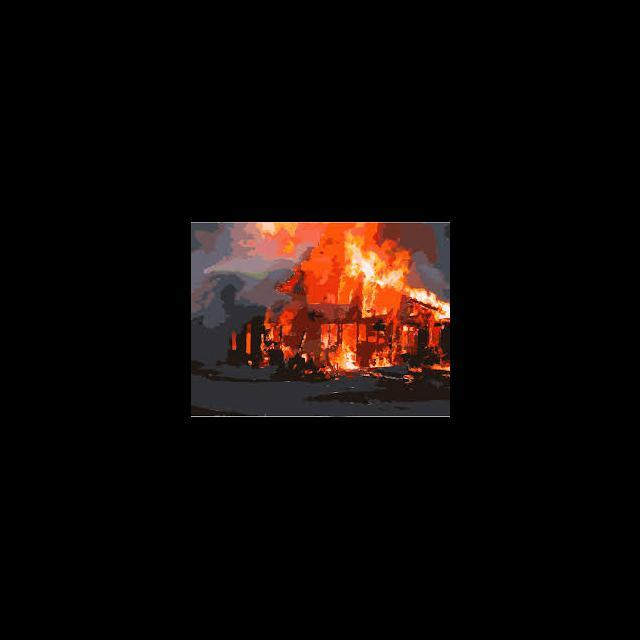Fire: (256, 222, 449, 384), (244, 324, 254, 354), (230, 332, 237, 352)
Smoke: (192, 222, 238, 330)
